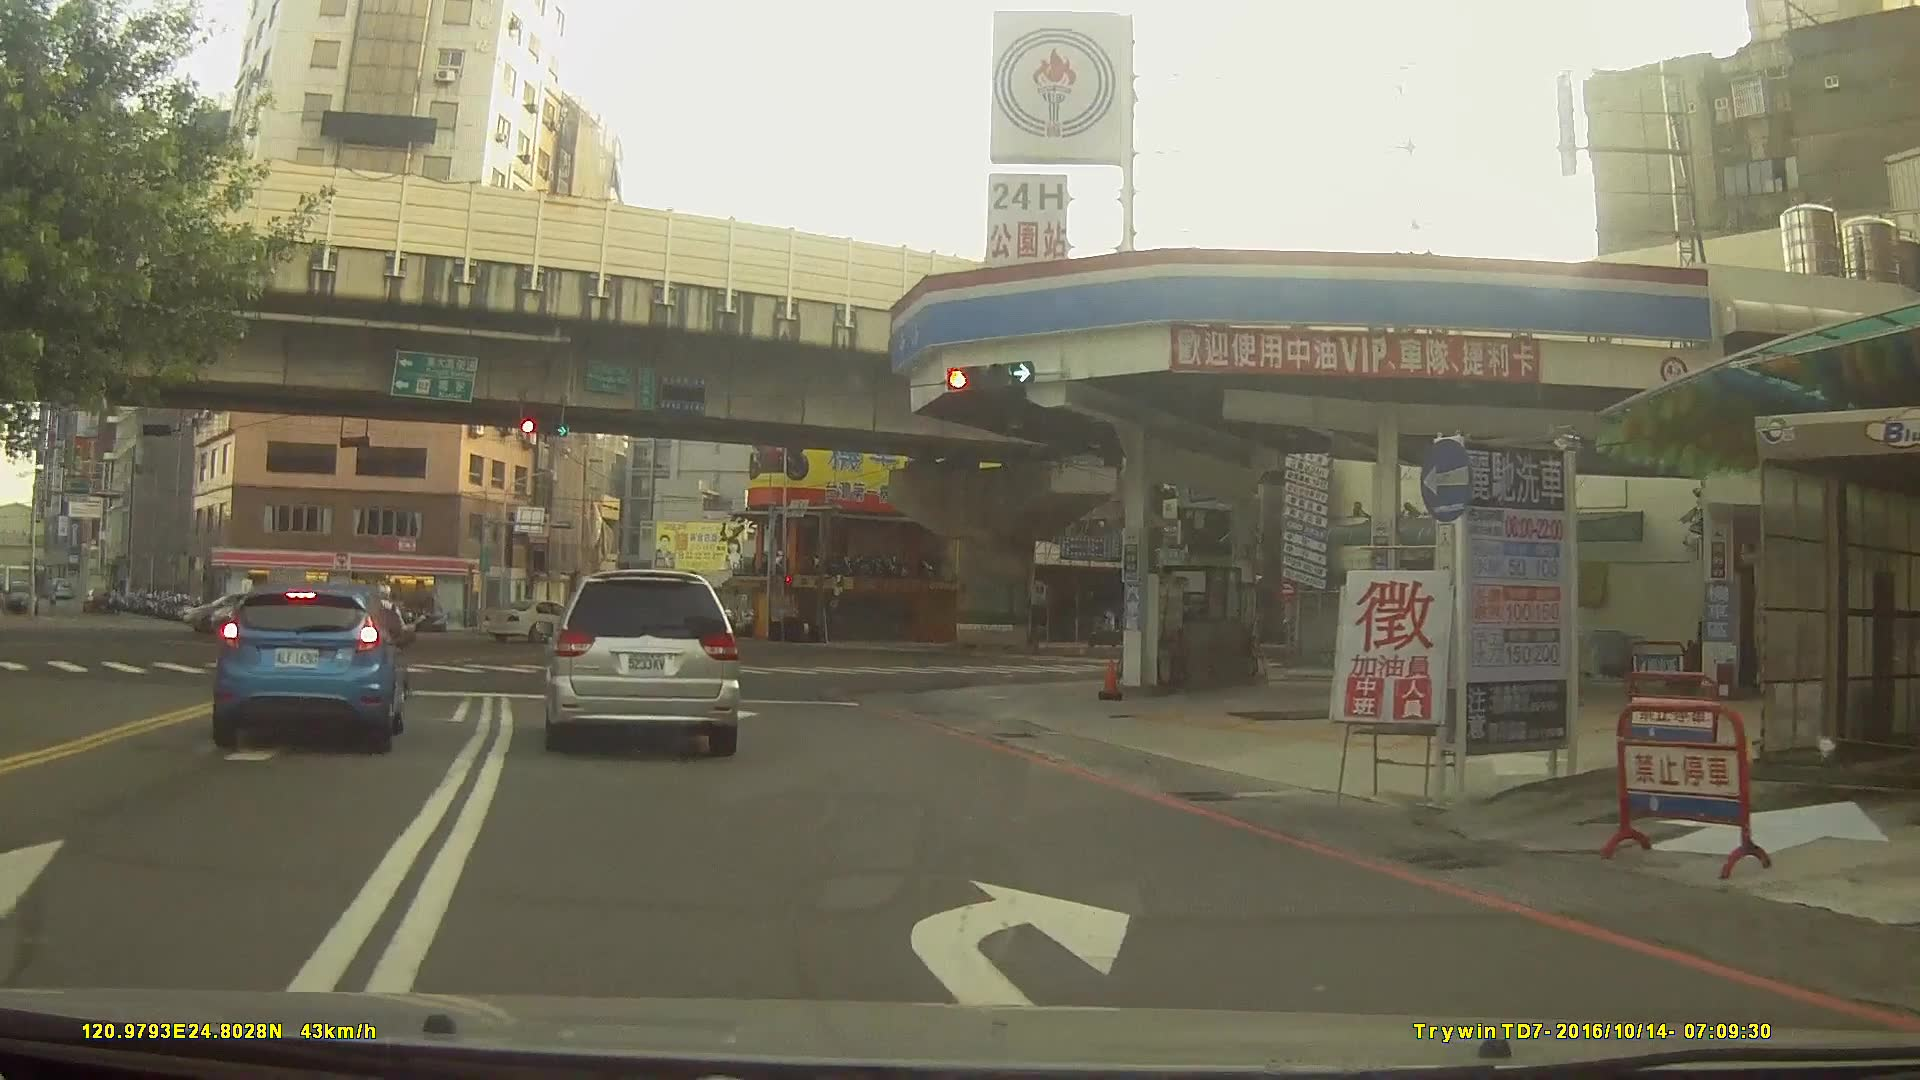vehicle: (538, 563, 742, 752), (208, 580, 405, 749), (204, 583, 327, 633), (483, 596, 589, 640)
